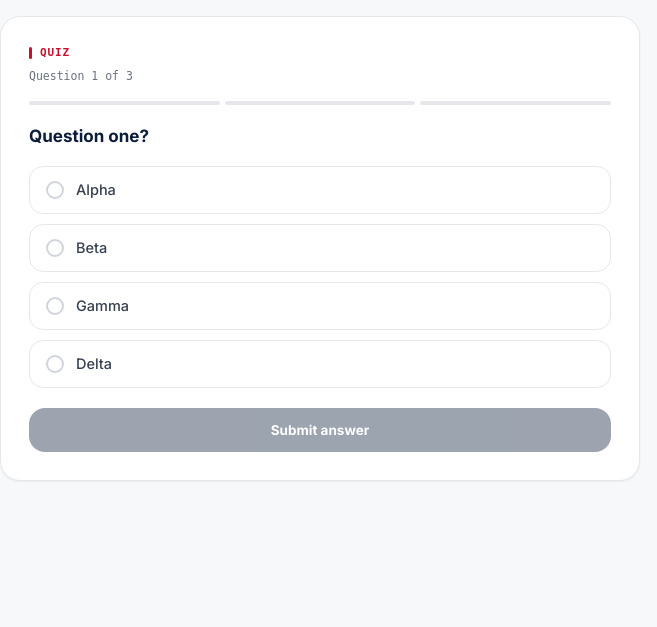
it: QuizWidget › shows the Grading… state while an answer is being graded (copy deck §1)
The width and height of the screenshot is (657, 627).
Click the radio button labelled "Alpha": (96, 190) [29, 166, 611, 214]
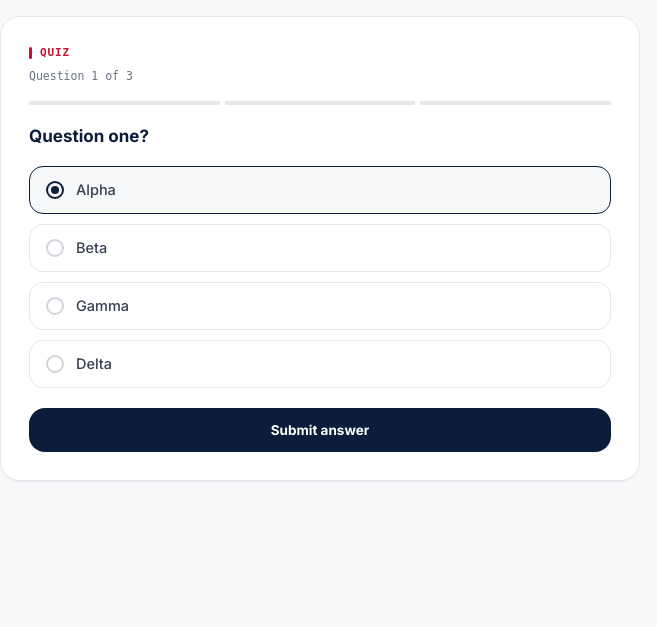
Click the button "Submit answer": (320, 430) [29, 408, 611, 452]
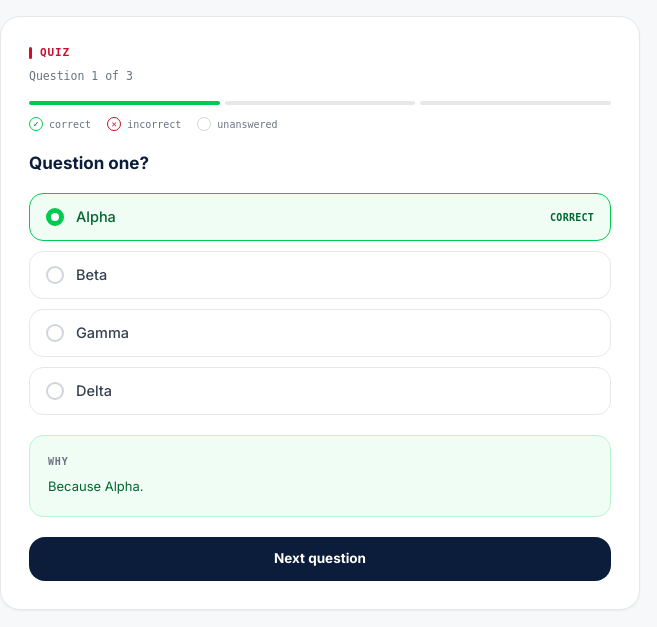
Expected: the button "Next question" is shown, [29, 536, 611, 580]
